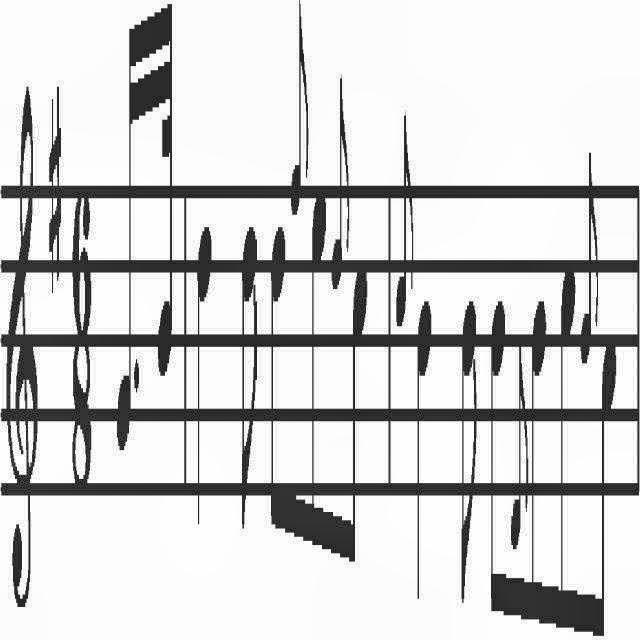Bass-clef: (0, 37, 40, 636)
Diez: (44, 70, 68, 308)
Eighth-note: (262, 212, 290, 566), (528, 268, 552, 640), (557, 218, 577, 640), (458, 272, 482, 620), (486, 252, 506, 640), (351, 227, 369, 640), (238, 215, 262, 520), (309, 168, 327, 572), (599, 328, 617, 640)
Quarter-note: (412, 276, 436, 628), (195, 205, 212, 551)
Sixteenth-note: (107, 1, 133, 472)
